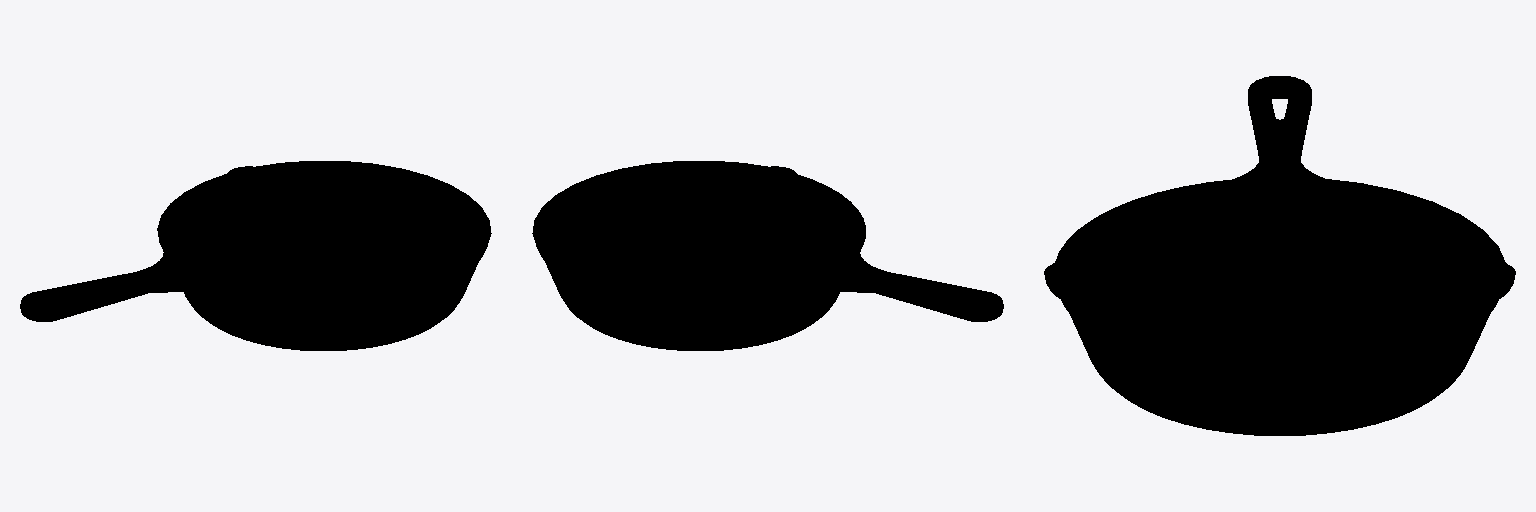
robot.urdf — LODGE L5SK3 CAST IRON SKILLET:
<?xml version="1.0" encoding="utf-8"?>
<!-- This URDF was automatically created by SolidWorks to URDF Exporter! Originally created by Stephen Brawner ([email redacted]) 
     Commit Version: 1.5.1-0-g916b5db  Build Version: 1.5.7152.31018
     For more information, please see http://wiki.ros.org/sw_urdf_exporter -->
<robot
  name="LODGE L5SK3 CAST IRON SKILLET">
  <link
    name="kitchen_pan">
    <inertial>
      <origin
        xyz="-0.017666 5.49210000000118E-06 0.01925"
        rpy="0 0 0" />
      <mass
        value="1.5988" />
      <inertia
        ixx="0.0050428"
        ixy="3.59459999999959E-07"
        ixz="0.00066323"
        iyy="0.0089832"
        iyz="2.52600000000252E-07"
        izz="0.013092" />
    </inertial>
    <visual>
      <origin
        xyz="0 0 0"
        rpy="1.5707963267949 0 0" />
      <geometry>
        <mesh
          filename="package://kitchen_pan/meshes/kitchen_pan.STL" />
      </geometry>
      <material
        name="">
        <color
          rgba="0.0 0.0 0.0 1" />
        <texture
          filename="package://kitchen_pan/textures/" />
      </material>
    </visual>
    <collision>
      <origin
        xyz="0 0 0"
        rpy="1.5707963267949 0 0" />
      <geometry>
        <mesh
          filename="package://kitchen_pan/meshes/kitchen_pan.STL" />
      </geometry>
    </collision>
  </link>

</robot>

--- Render facts (derived) ---
Views: 3 orthographic renders of the robot side by side, from view 1: azimuth 30°, elevation 25°; view 2: azimuth 150°, elevation 25°; view 3: azimuth 270°, elevation 25°.
Model LODGE L5SK3 CAST IRON SKILLET with 1 links and 0 joints (none), rooted at kitchen_pan, posed every joint at zero.
Visible links, largest first — view 1: kitchen_pan; view 2: kitchen_pan; view 3: kitchen_pan.
Link boxes in pixels (x1,y1,x2,y2): kitchen_pan: [20, 161, 491, 350]; kitchen_pan: [532, 161, 1003, 350]; kitchen_pan: [1044, 76, 1515, 435].
Bounding box of the posed robot: 0.3228 × 0.2176 × 0.048 m (x, y, z).
Meshes: 1 distinct files referenced, 1 mesh visuals loaded (1 binary STL).
